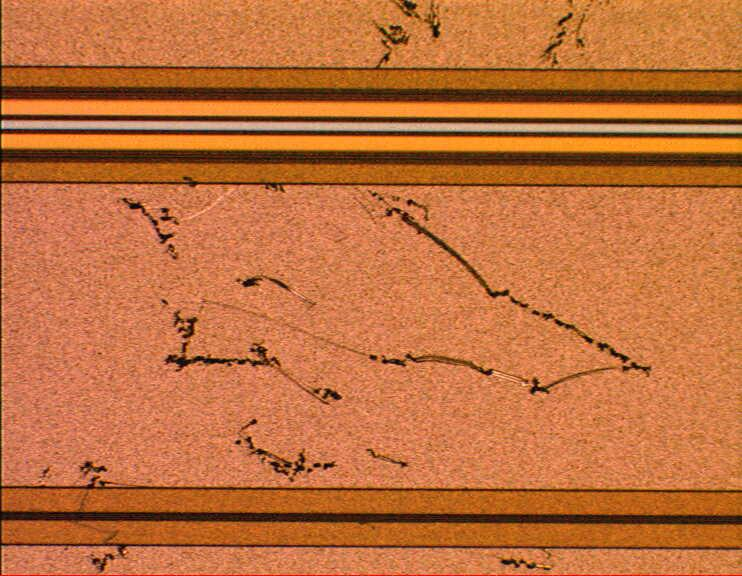SCRATCH: (52, 1, 656, 576)
